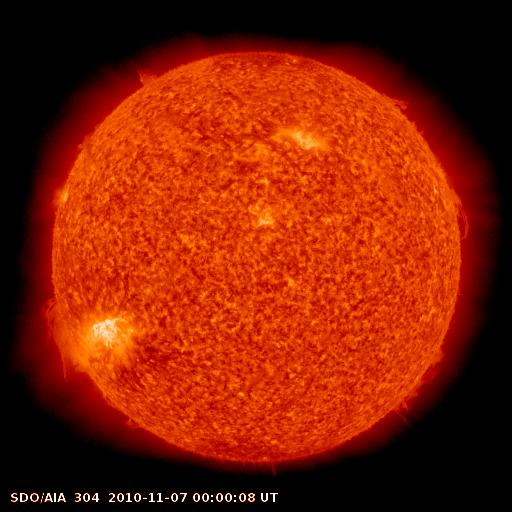prominence: (27, 277, 83, 379), (380, 343, 446, 425), (375, 81, 436, 145), (436, 171, 478, 249), (119, 51, 178, 101), (96, 390, 151, 435), (64, 117, 100, 164)
